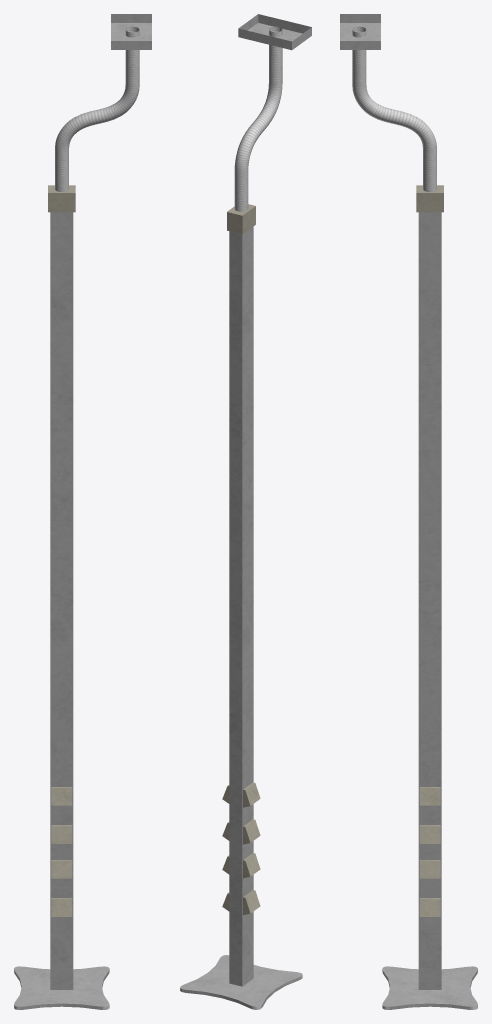
File: SM_OutletPole_01.fbx
3 renders of one model, left to right at view 1: azimuth 90°, elevation 25°; view 2: azimuth 150°, elevation 25°; view 3: azimuth 270°, elevation 25°, orthographic. The views are drawn at different scales.
Visible parts, largest first — view 1: SM_OutletPole_01_LOD0; view 2: SM_OutletPole_01_LOD0; view 3: SM_OutletPole_01_LOD0.
Part boxes in pixels (x1,y1,x2,y2): SM_OutletPole_01_LOD0: (14, 14, 151, 1009); SM_OutletPole_01_LOD0: (180, 14, 311, 1009); SM_OutletPole_01_LOD0: (340, 14, 477, 1009).
Size of the model in its own units: 27.03 by 39.03 by 301.
